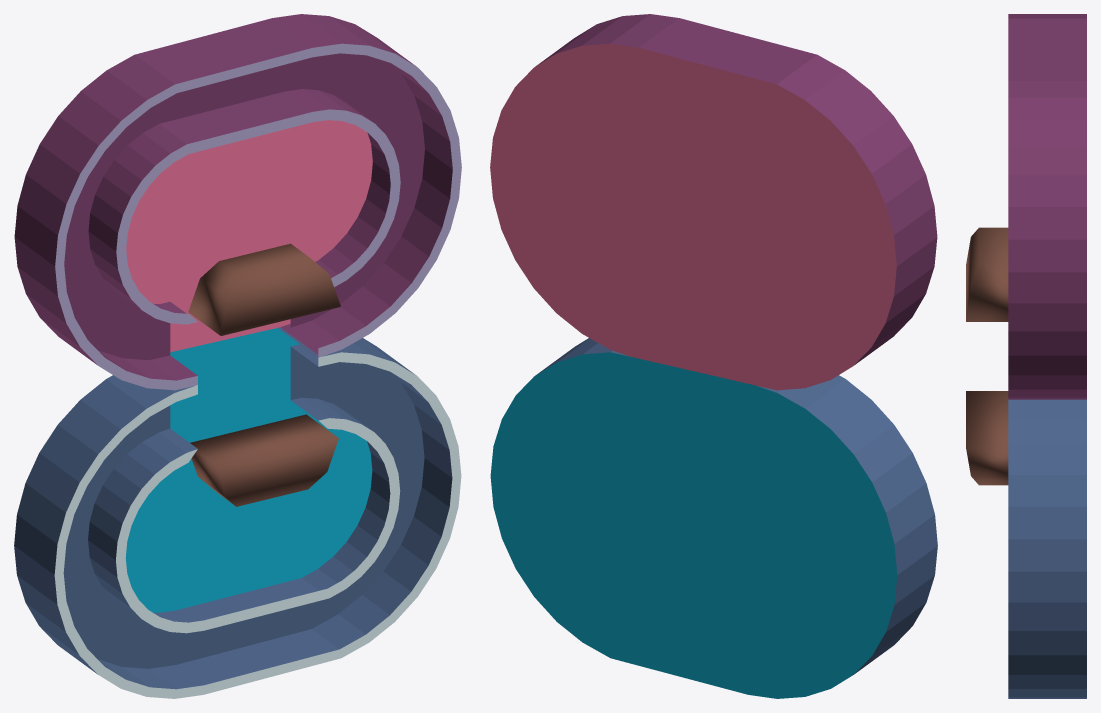
The model's file is CupcakeCont.fbx.
3 renders of one model, left to right at view 1: azimuth 30°, elevation 25°; view 2: azimuth 150°, elevation 25°; view 3: azimuth 270°, elevation 25°, orthographic. The views are drawn at different scales.
Parts seen in each view (by area): view 1: BlueCont, BlueCont.001, BluePush.001, BluePush; view 2: BlueCont.001, BlueCont; view 3: BlueCont.001, BlueCont, BluePush, BluePush.001.
Part boxes in pixels (bbox=[...]): BlueCont: bbox=[14, 327, 461, 698]; BlueCont.001: bbox=[14, 14, 461, 390]; BluePush.001: bbox=[188, 243, 340, 335]; BluePush: bbox=[190, 414, 338, 506]; BlueCont.001: bbox=[490, 14, 937, 390]; BlueCont: bbox=[490, 338, 937, 698]; BlueCont.001: bbox=[1008, 14, 1086, 399]; BlueCont: bbox=[1008, 399, 1086, 698]; BluePush: bbox=[966, 391, 1008, 485]; BluePush.001: bbox=[966, 227, 1008, 321].
Bounding box in the file's own units: 358 × 521 × 94.72.
